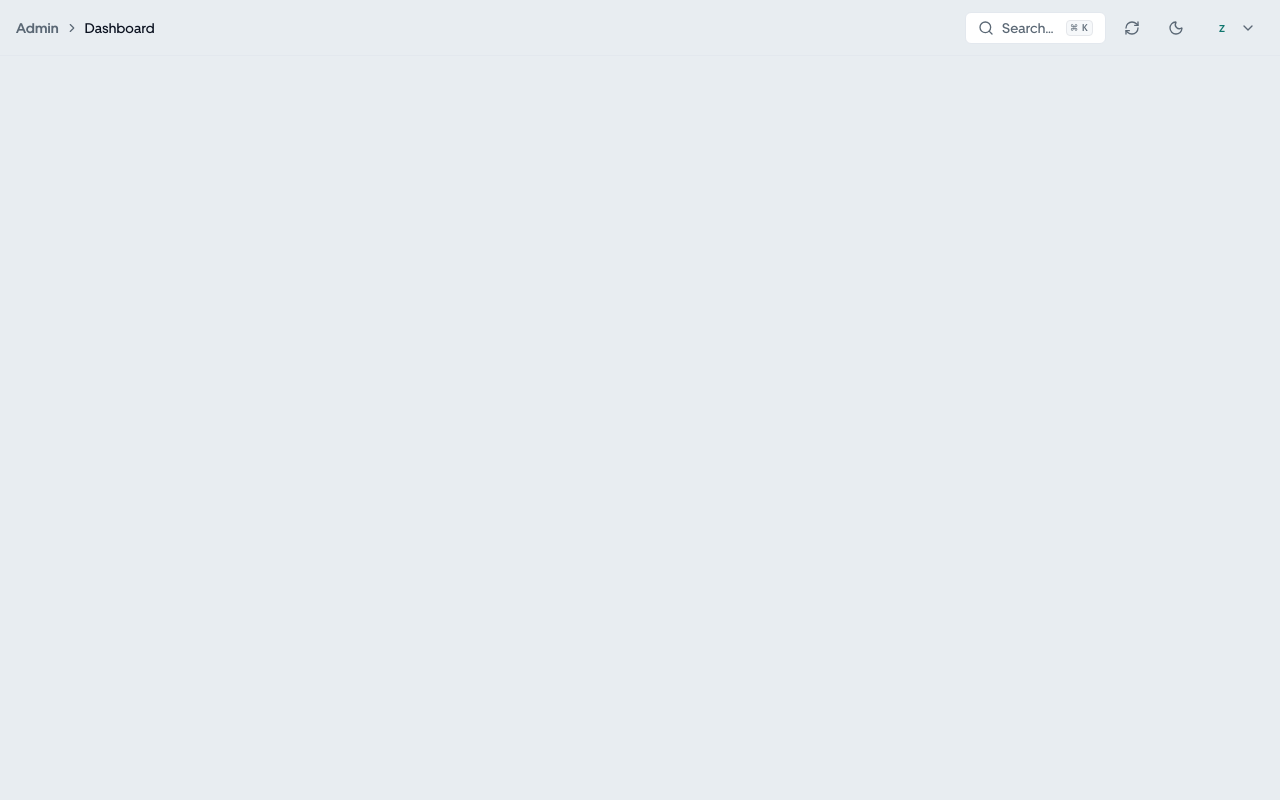
it: Topbar › opens the command dialog on the ⌘K button click
The width and height of the screenshot is (1280, 800).
Step 1. Click the button with aria-label "Open command menu" → point(1036, 28), box x1=965 y1=12 x2=1106 y2=44
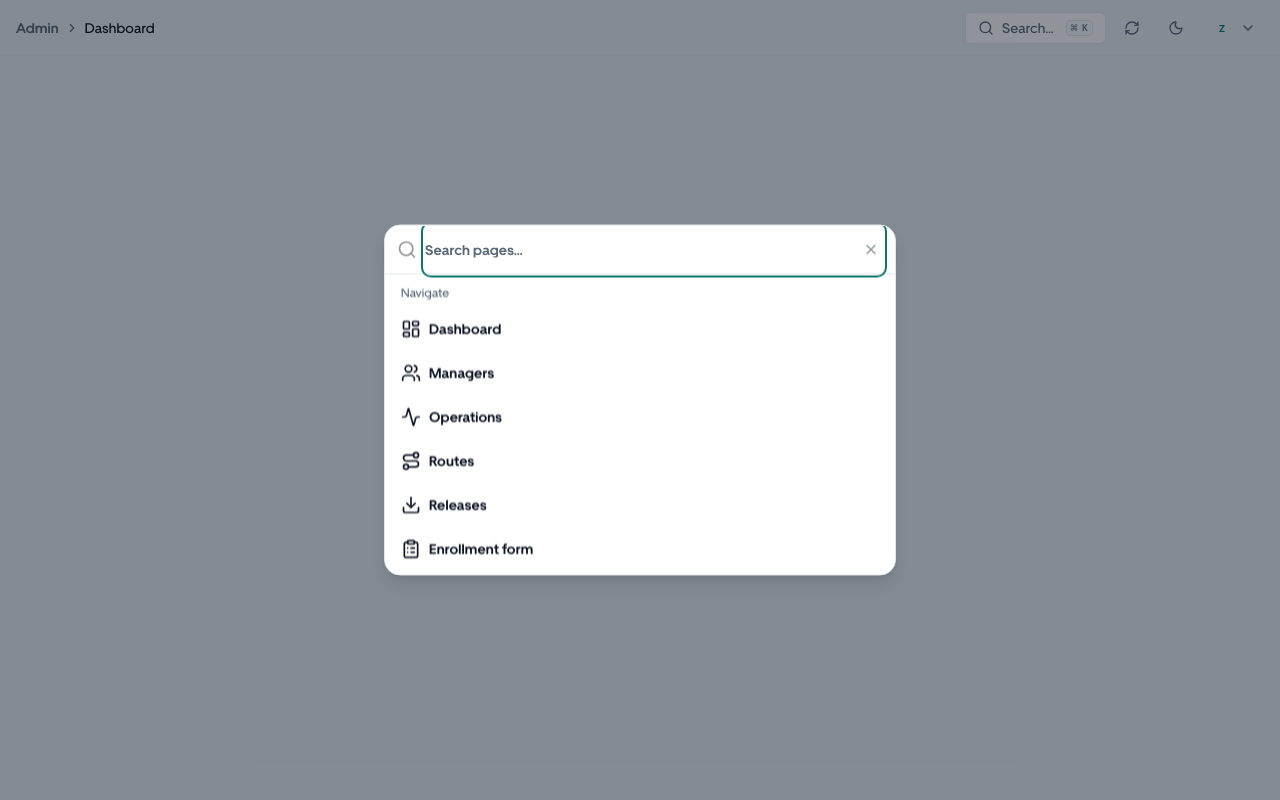
expect the dropdown with placeholder "Search pages…" is shown: met, box x1=425 y1=226 x2=883 y2=274
